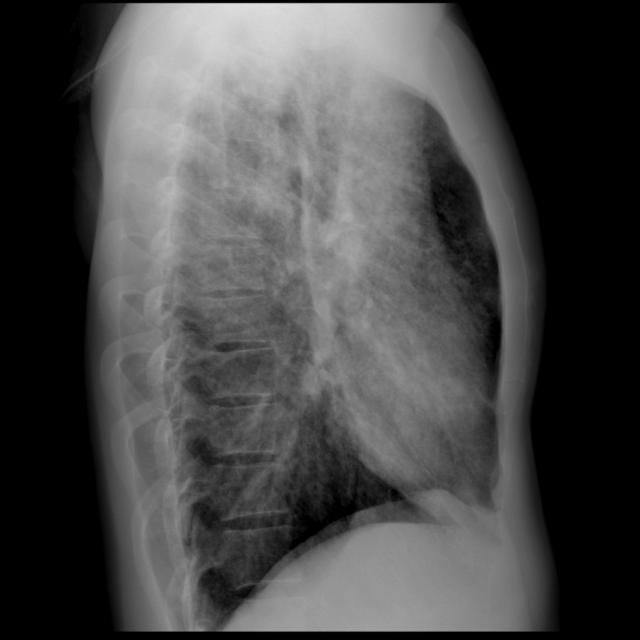coronavirus: (7, 0, 640, 640)
